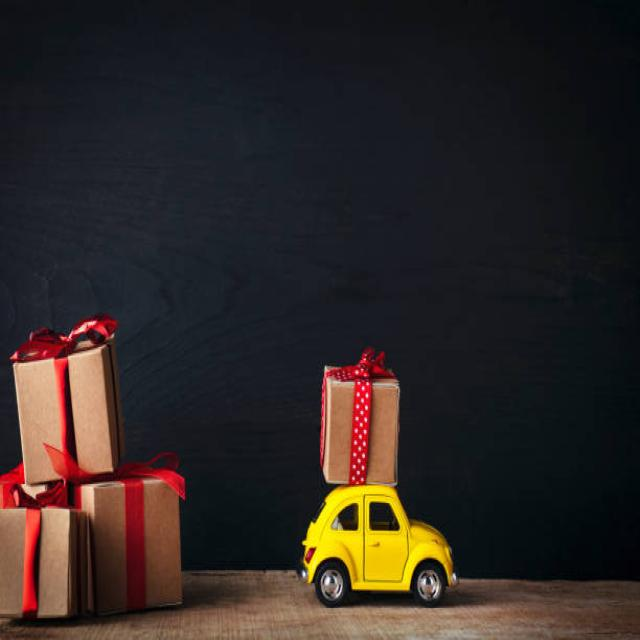Car: (297, 482, 458, 606)
